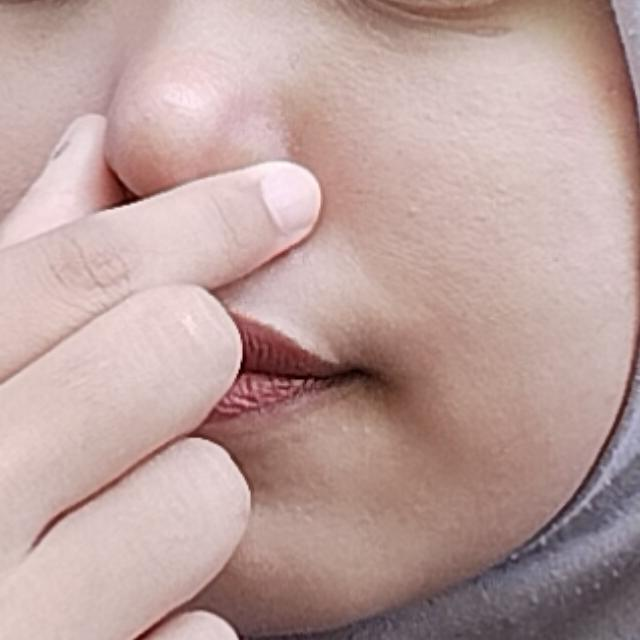bau: (0, 68, 515, 640)
